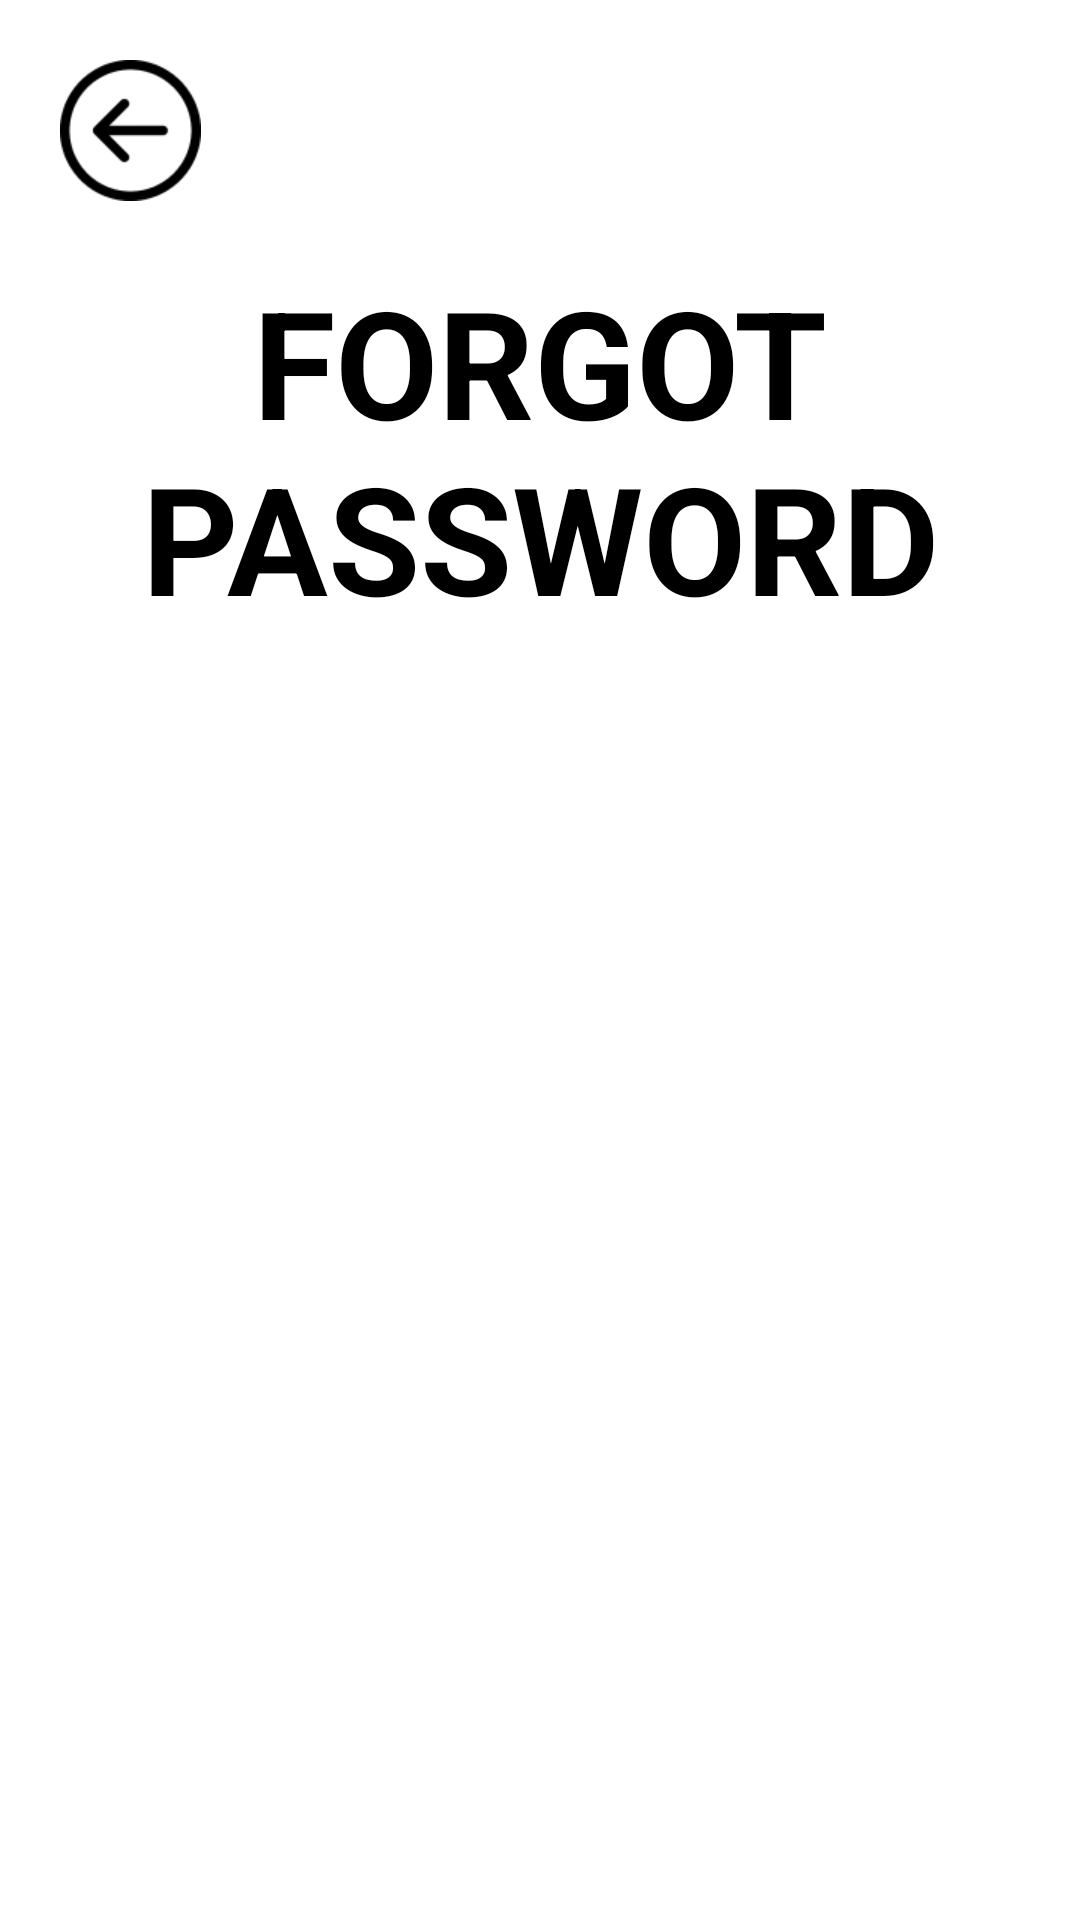

Named icons in this screenshot (1080×1920) and their centers, (x=x, y=y):
back: (x=130, y=130)
